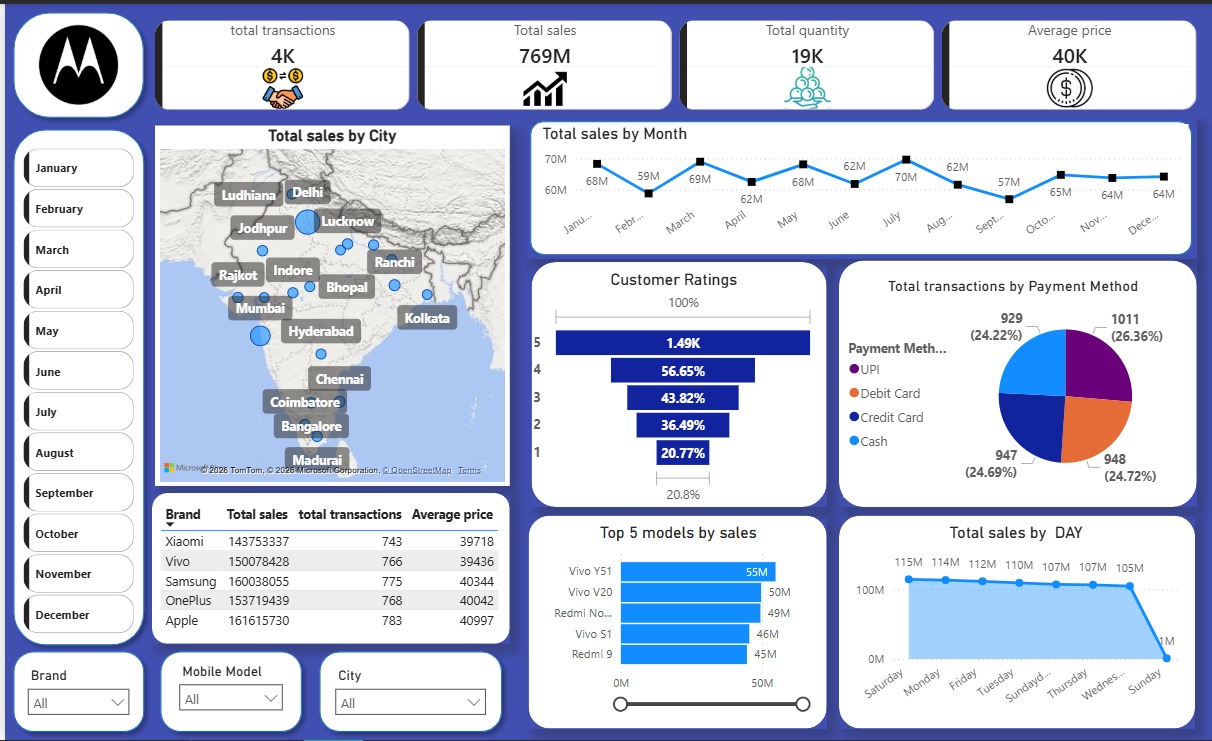

The page's visual inventory and layout, read from the dashboard file:
{"tool":"powerbi","page":{"name":"Page 1","canvas":[1280,780],"ordinal":0},"visuals":[{"type":"shape","box":[0,0,155.9,129.6],"z":0},{"type":"image","box":[0,9.5,155.9,110.3],"z":1000},{"type":"shape","box":[0,124.2,156.5,564.5],"z":2000},{"type":"advancedSlicerVisual","fields":{"Values":["sales.Date.Variation.Date Hierarchy.Month"]},"box":[14.5,148.4,127.4,535.5],"z":3000},{"type":"cardVisual","fields":{"Data":["sales.total transactions","sales.Total sales","sales.Total quantity","sales.Average price"]},"box":[141.9,0,1138.7,129],"z":4000},{"type":"map","fields":{"Category":["sales.City"],"Size":["sales.Total sales"]},"box":[159.7,129,375.8,382.3],"z":5000},{"type":"shape","box":[551.6,119.4,711.3,151.6],"z":6000},{"type":"lineChart","fields":{"Category":["sales.Date.Variation.Date Hierarchy.Month","sales.Date.Variation.Date Hierarchy.Day"],"Y":["sales.Total sales"]},"box":[564.5,127.4,690.3,130.6],"z":7000},{"type":"shape","box":[558.1,274.2,312.9,259.7],"z":8000},{"type":"shape","box":[554.8,541.9,316.1,225.8],"z":9000},{"type":"clusteredBarChart","title":"Top 5 models by sales","fields":{"Category":["sales.Mobile Model"],"Y":["sales.Total sales"]},"box":[564.5,550,298.4,203.2],"z":10000},{"type":"shape","box":[883.9,272.6,379,261.3],"z":11000},{"type":"pieChart","title":"Total transactions by Payment Method","fields":{"Category":["sales.Payment Method"],"Y":["sales.total transactions"]},"box":[888.7,288.7,359.7,233.9],"z":12000},{"type":"funnel","title":"Customer Ratings","fields":{"Category":["sales.Customer Ratings"],"Y":["CountNonNull(sales.Customer Ratings)"]},"box":[554.8,280.6,308.1,251.6],"z":13000},{"type":"shape","box":[883.9,541.9,377.4,225.8],"z":14000},{"type":"areaChart","title":"Total sales by  DAY","fields":{"Y":["sales.Total sales"],"Category":["sales.Day Name"]},"box":[891.9,550,359.7,203.2],"z":15000},{"type":"shape","box":[156.5,517.7,379,159.7],"z":16000},{"type":"tableEx","fields":{"Values":["sales.Brand","sales.Total sales","sales.total transactions","sales.Average price"]},"box":[159.7,524.2,372.6,146.8],"z":17000},{"type":"shape","box":[0,677.4,156.5,103.2],"z":18000},{"type":"shape","box":[156.5,677.4,167.7,103.2],"z":19000},{"type":"slicer","fields":{"Values":["sales.Mobile Model"]},"box":[174.2,693.5,129,74.2],"z":20000},{"type":"shape","box":[324.2,677.4,211.3,103.2],"z":21000},{"type":"slicer","fields":{"Values":["sales.Brand"]},"box":[14.5,698.4,127.4,61.3],"z":22000},{"type":"slicer","fields":{"Values":["sales.City"]},"box":[340.3,698.4,179,66.1],"z":23000}]}

Visuals, with their boxes in screenshot pixels (x1, y1, x2, y2), scaled from the page's 1280x780 canvas onto the 1212x741 screenshot:
shape: bbox=(0, 0, 148, 123)
image: bbox=(0, 9, 148, 114)
shape: bbox=(0, 118, 148, 654)
advancedSlicerVisual - sales.Date.Variation.Date Hierarchy.Month: bbox=(14, 141, 134, 650)
cardVisual - sales.total transactions x sales.Total sales: bbox=(134, 0, 1211, 123)
map - sales.City x sales.Total sales: bbox=(151, 123, 507, 486)
shape: bbox=(522, 113, 1196, 257)
lineChart - sales.Date.Variation.Date Hierarchy.Month x sales.Date.Variation.Date Hierarchy.Day: bbox=(535, 121, 1188, 245)
shape: bbox=(528, 260, 825, 507)
shape: bbox=(525, 515, 825, 729)
"Top 5 models by sales" clusteredBarChart: bbox=(535, 522, 817, 716)
shape: bbox=(837, 259, 1196, 507)
"Total transactions by Payment Method" pieChart: bbox=(841, 274, 1182, 496)
"Customer Ratings" funnel: bbox=(525, 267, 817, 506)
shape: bbox=(837, 515, 1194, 729)
"Total sales by  DAY" areaChart: bbox=(845, 522, 1185, 716)
shape: bbox=(148, 492, 507, 644)
tableEx - sales.Brand x sales.Total sales: bbox=(151, 498, 504, 637)
shape: bbox=(0, 644, 148, 740)
shape: bbox=(148, 644, 307, 740)
slicer - sales.Mobile Model: bbox=(165, 659, 287, 729)
shape: bbox=(307, 644, 507, 740)
slicer - sales.Brand: bbox=(14, 663, 134, 722)
slicer - sales.City: bbox=(322, 663, 492, 726)
